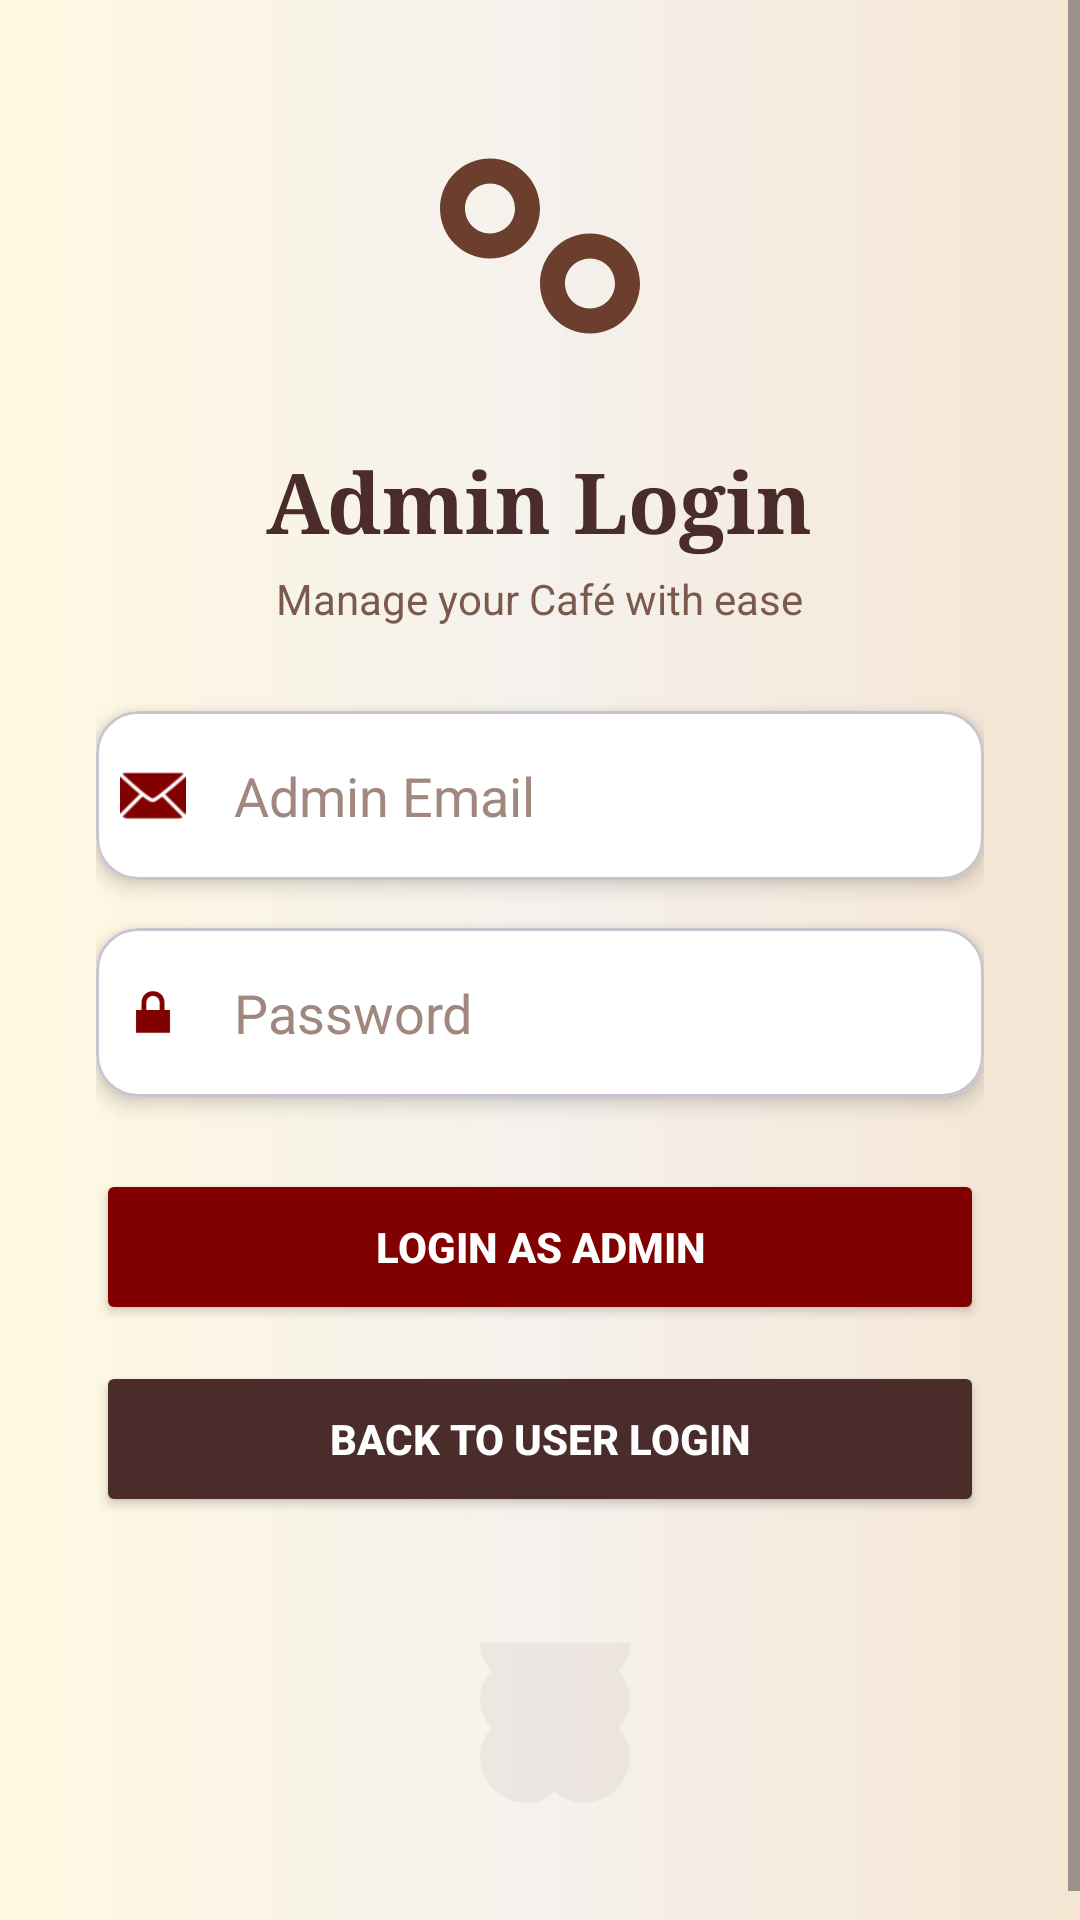

Named icons in this screenshot (1080 × 1920) and their centers, (x,y):
lock: (153,1012)
